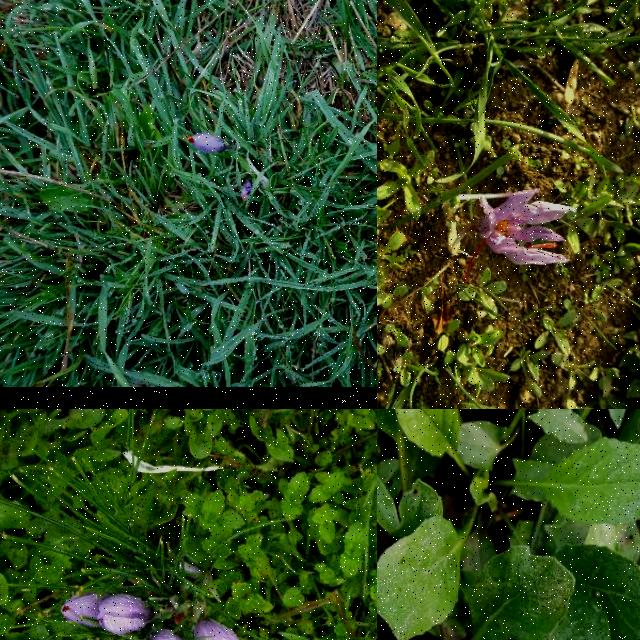flower: (98, 594, 156, 636), (60, 594, 101, 630), (193, 620, 245, 640), (186, 133, 228, 155), (148, 628, 189, 640)
